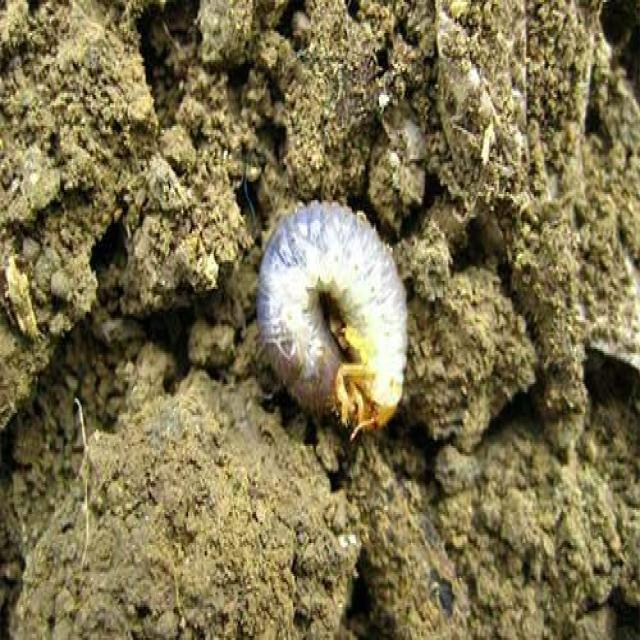grub: (258, 199, 408, 439)
